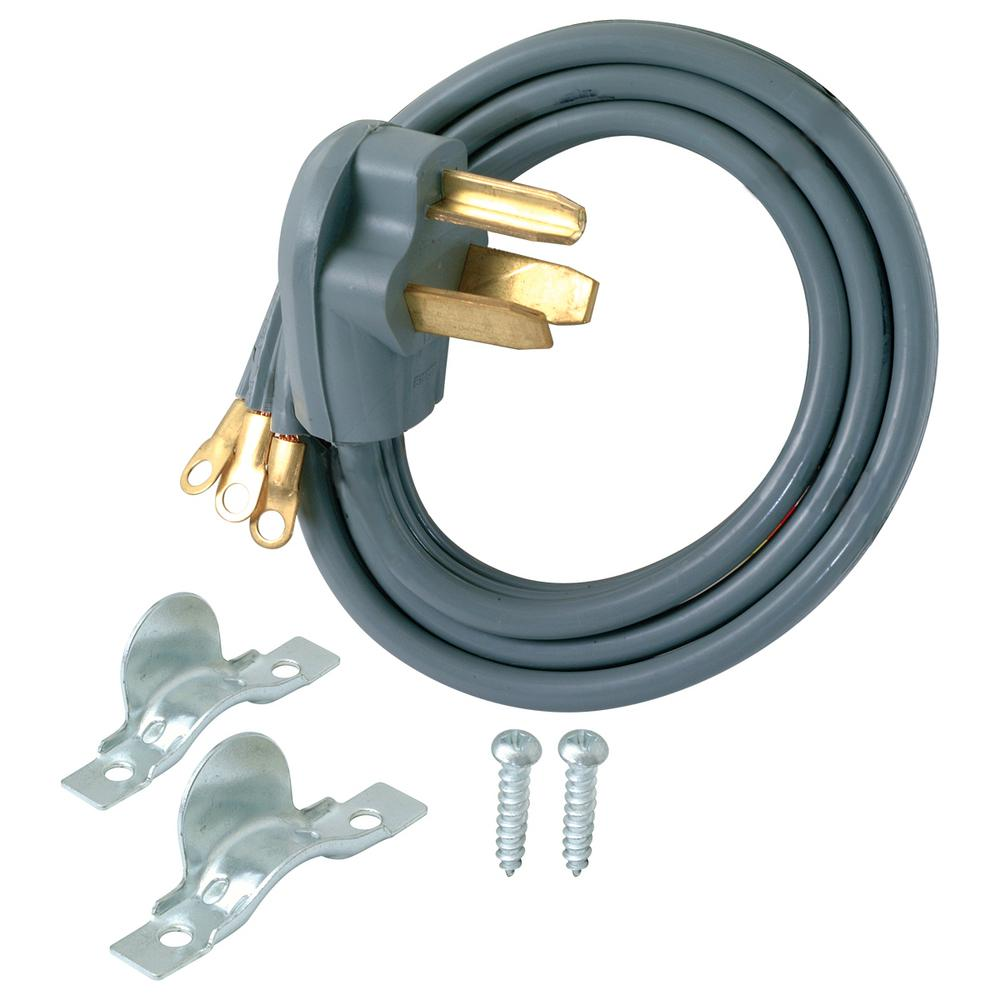Nonrec_Tangler: (175, 21, 930, 748)
